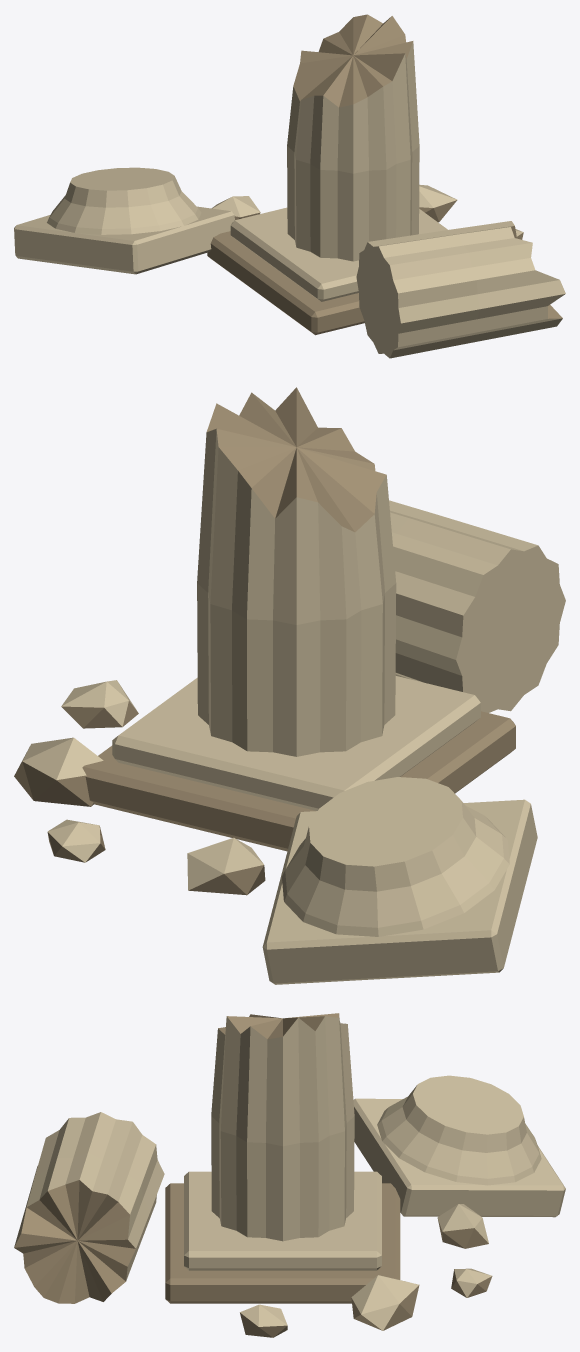
File: columnBroken.glb
3 renders of one model, top to bottom at view 1: azimuth 30°, elevation 25°; view 2: azimuth 150°, elevation 25°; view 3: azimuth 270°, elevation 25°, orthographic. The views are drawn at different scales.
Parts seen in each view (by area): view 1: columnBroken; view 2: columnBroken; view 3: columnBroken.
Part boxes in pixels (left/top/right/bottom): columnBroken: left=14, top=14, right=565, bottom=358; columnBroken: left=14, top=387, right=565, bottom=984; columnBroken: left=14, top=1013, right=565, bottom=1337.
Bounding box in the file's own units: 0.8024 × 0.5051 × 0.8926.
